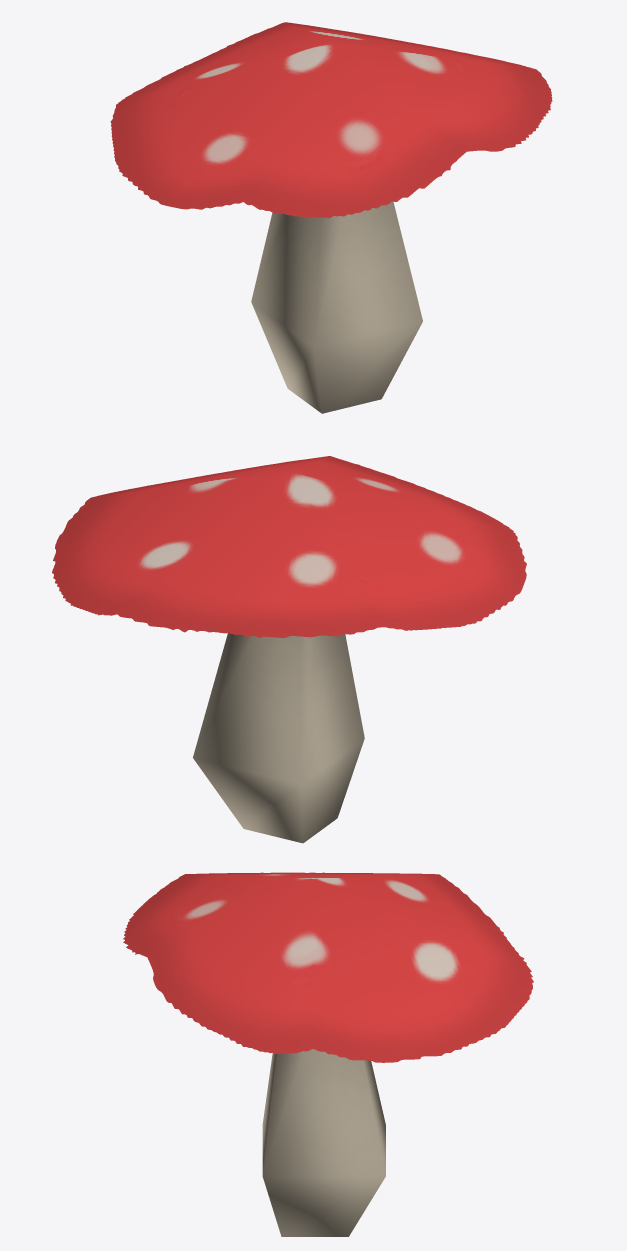
The model's file is Mushroom01.fbx.
3 views of the same model, one above another, from view 1: azimuth 30°, elevation 25°; view 2: azimuth 150°, elevation 25°; view 3: azimuth 270°, elevation 25° (orthographic). The views are drawn at different scales.
Visible parts, largest first — view 1: polySurface1; view 2: polySurface1; view 3: polySurface1.
Part boxes in pixels (x1,y1,x2,y2): polySurface1: (110, 22, 552, 413); polySurface1: (52, 456, 526, 843); polySurface1: (123, 872, 533, 1236).
Size of the model in its own units: 0.3428 by 0.2278 by 0.3604.
